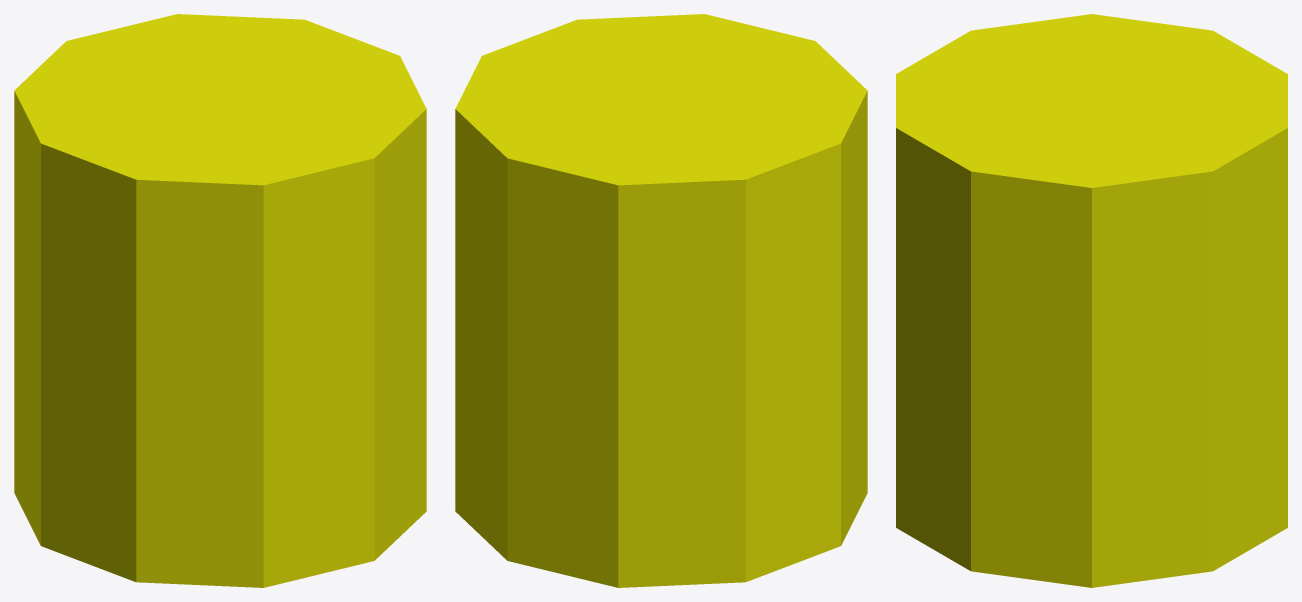
The model's file is mesh_hay_upright.fbx.
The picture shows the model from 3 angles, left to right: view 1: azimuth 30°, elevation 25°; view 2: azimuth 150°, elevation 25°; view 3: azimuth 270°, elevation 25°; orthographic projection.
Visible parts, largest first — view 1: mesh_hay_upright; view 2: mesh_hay_upright; view 3: mesh_hay_upright.
Boxes of the visible parts, bbox=[...] form: mesh_hay_upright: bbox=[14, 14, 426, 587]; mesh_hay_upright: bbox=[455, 14, 867, 587]; mesh_hay_upright: bbox=[896, 14, 1287, 587].
Bounding box in the file's own units: 140 × 150 × 133.
